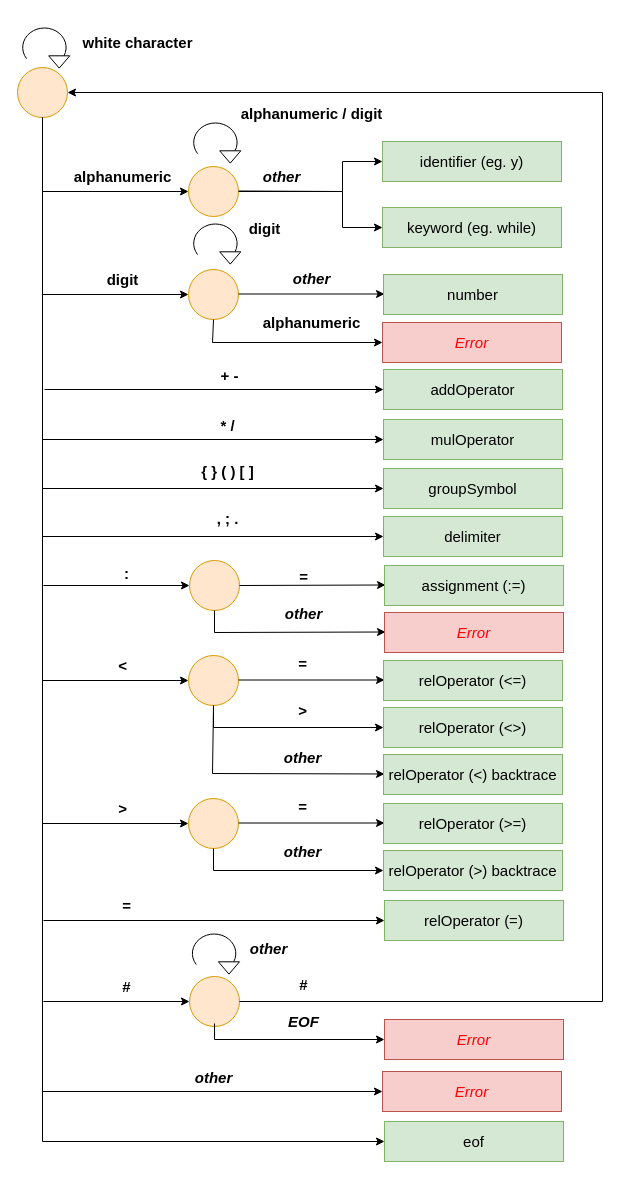
The diagram is 628 pixels wide and 1179 high, and some of its shapes have lost their labels. Each missing label, with the centre of its shape:
asgn: the point at 214,585
dig: the point at 213,294
idk: the point at 213,191
larger: the point at 213,823
rem: the point at 214,1001
smaller: the point at 213,680
start: the point at 42,92
